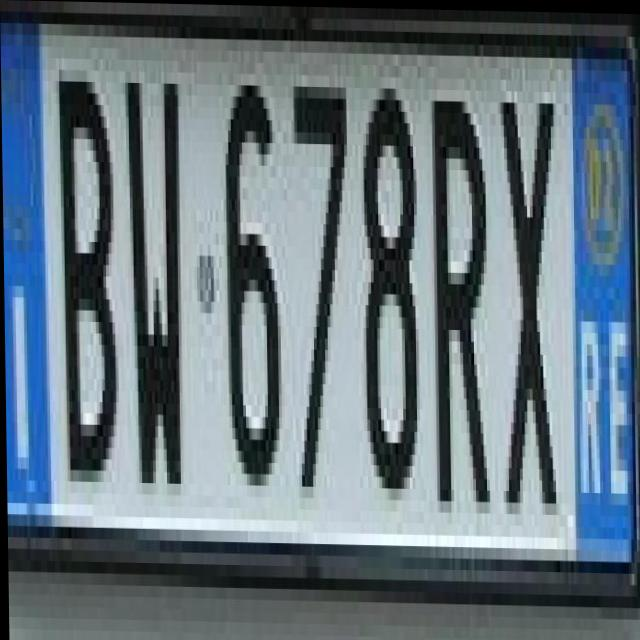6: (219, 49, 282, 485)
7: (282, 62, 351, 520)
8: (357, 52, 417, 510)
B: (50, 35, 127, 494)
X: (495, 66, 566, 524)
